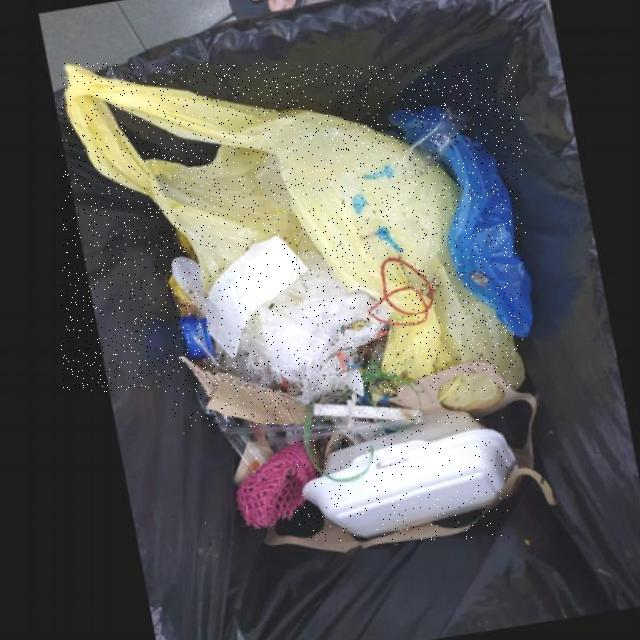paper: (199, 237, 303, 360), (171, 357, 299, 427)
plastic: (62, 63, 518, 392), (386, 107, 526, 341)
styrofoam: (294, 415, 509, 541)
